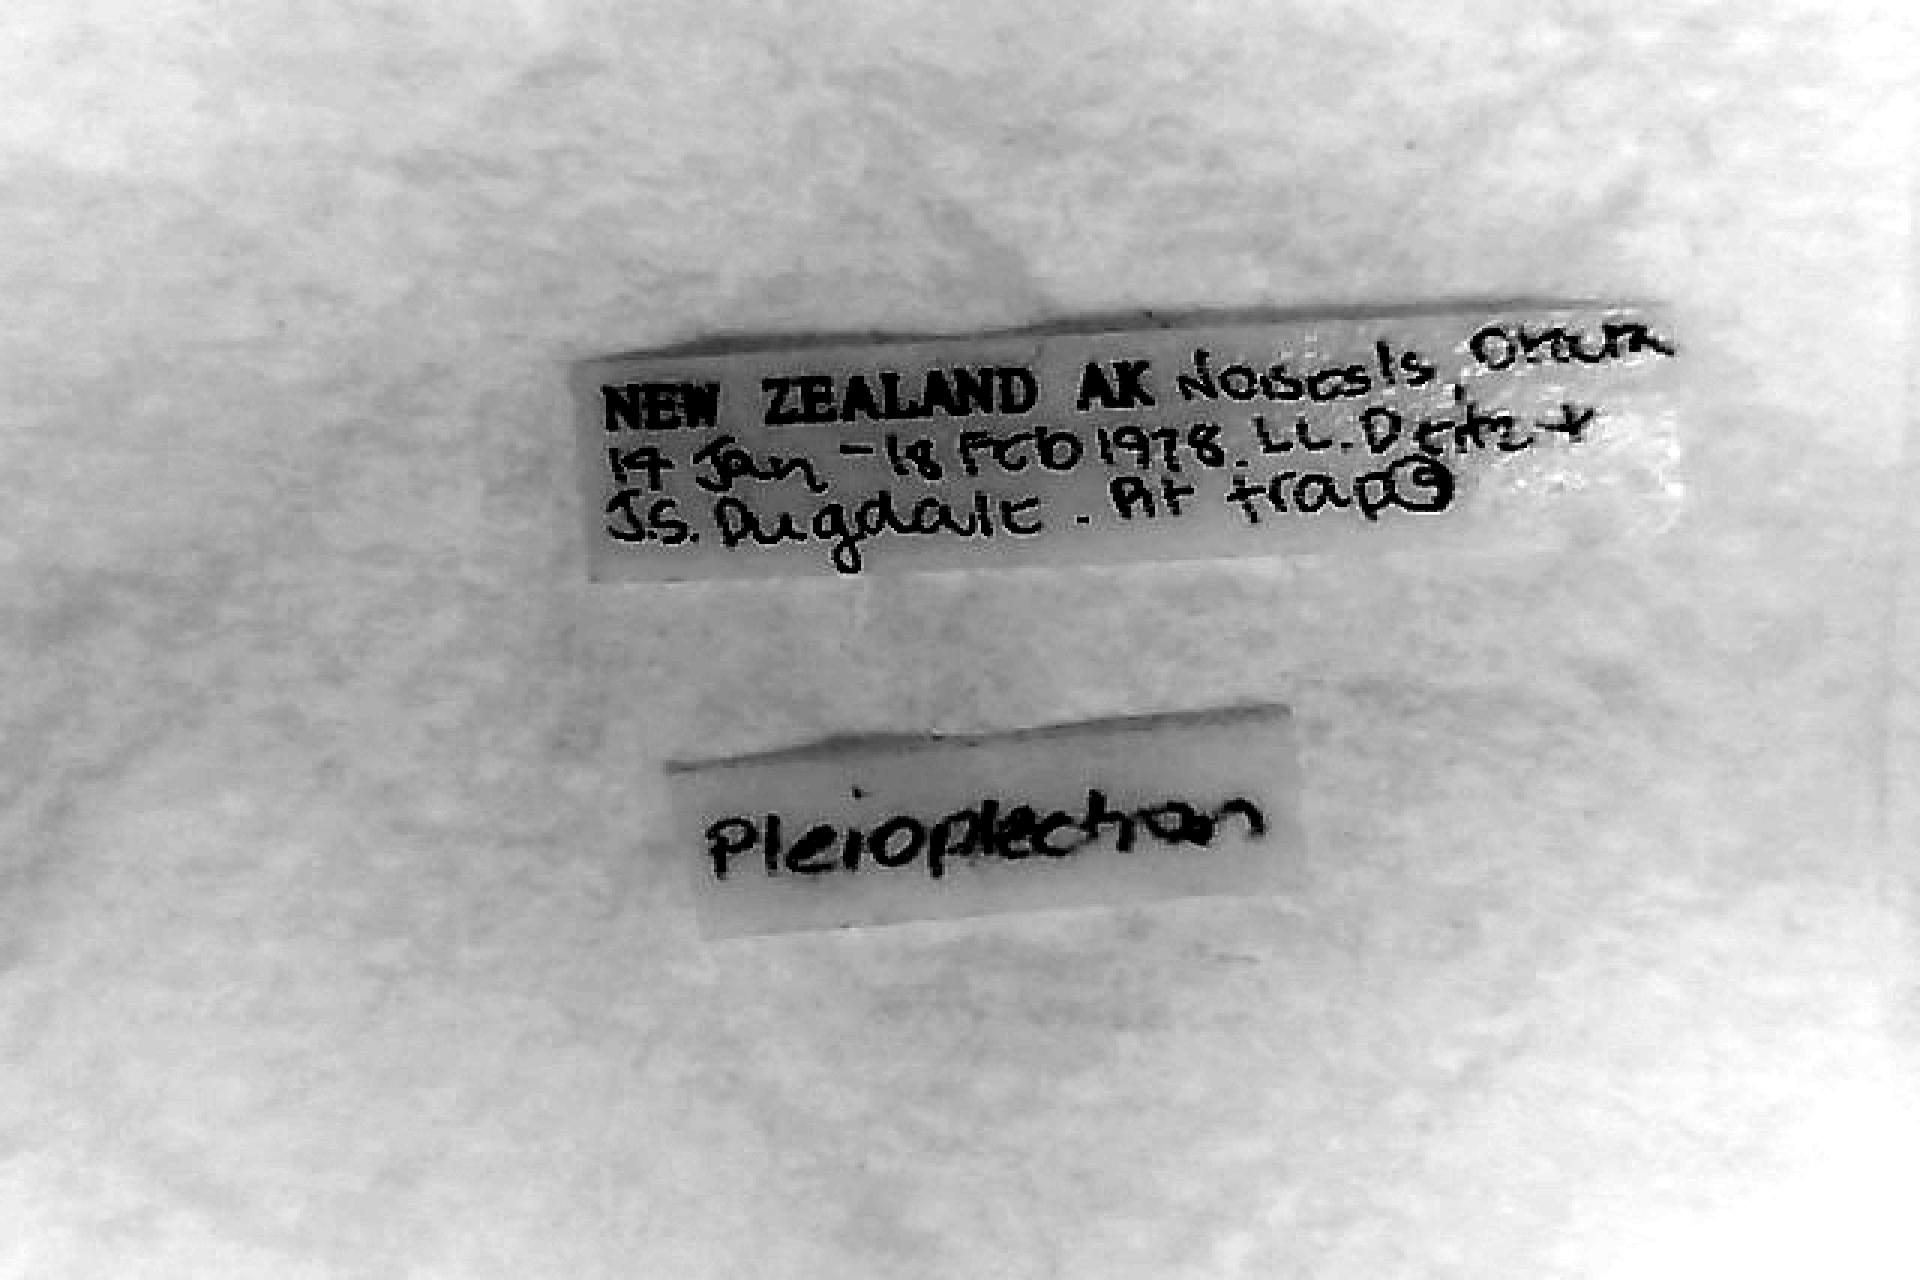hand_label: (671, 703, 1301, 934)
mixed_label: (574, 303, 1684, 579)
